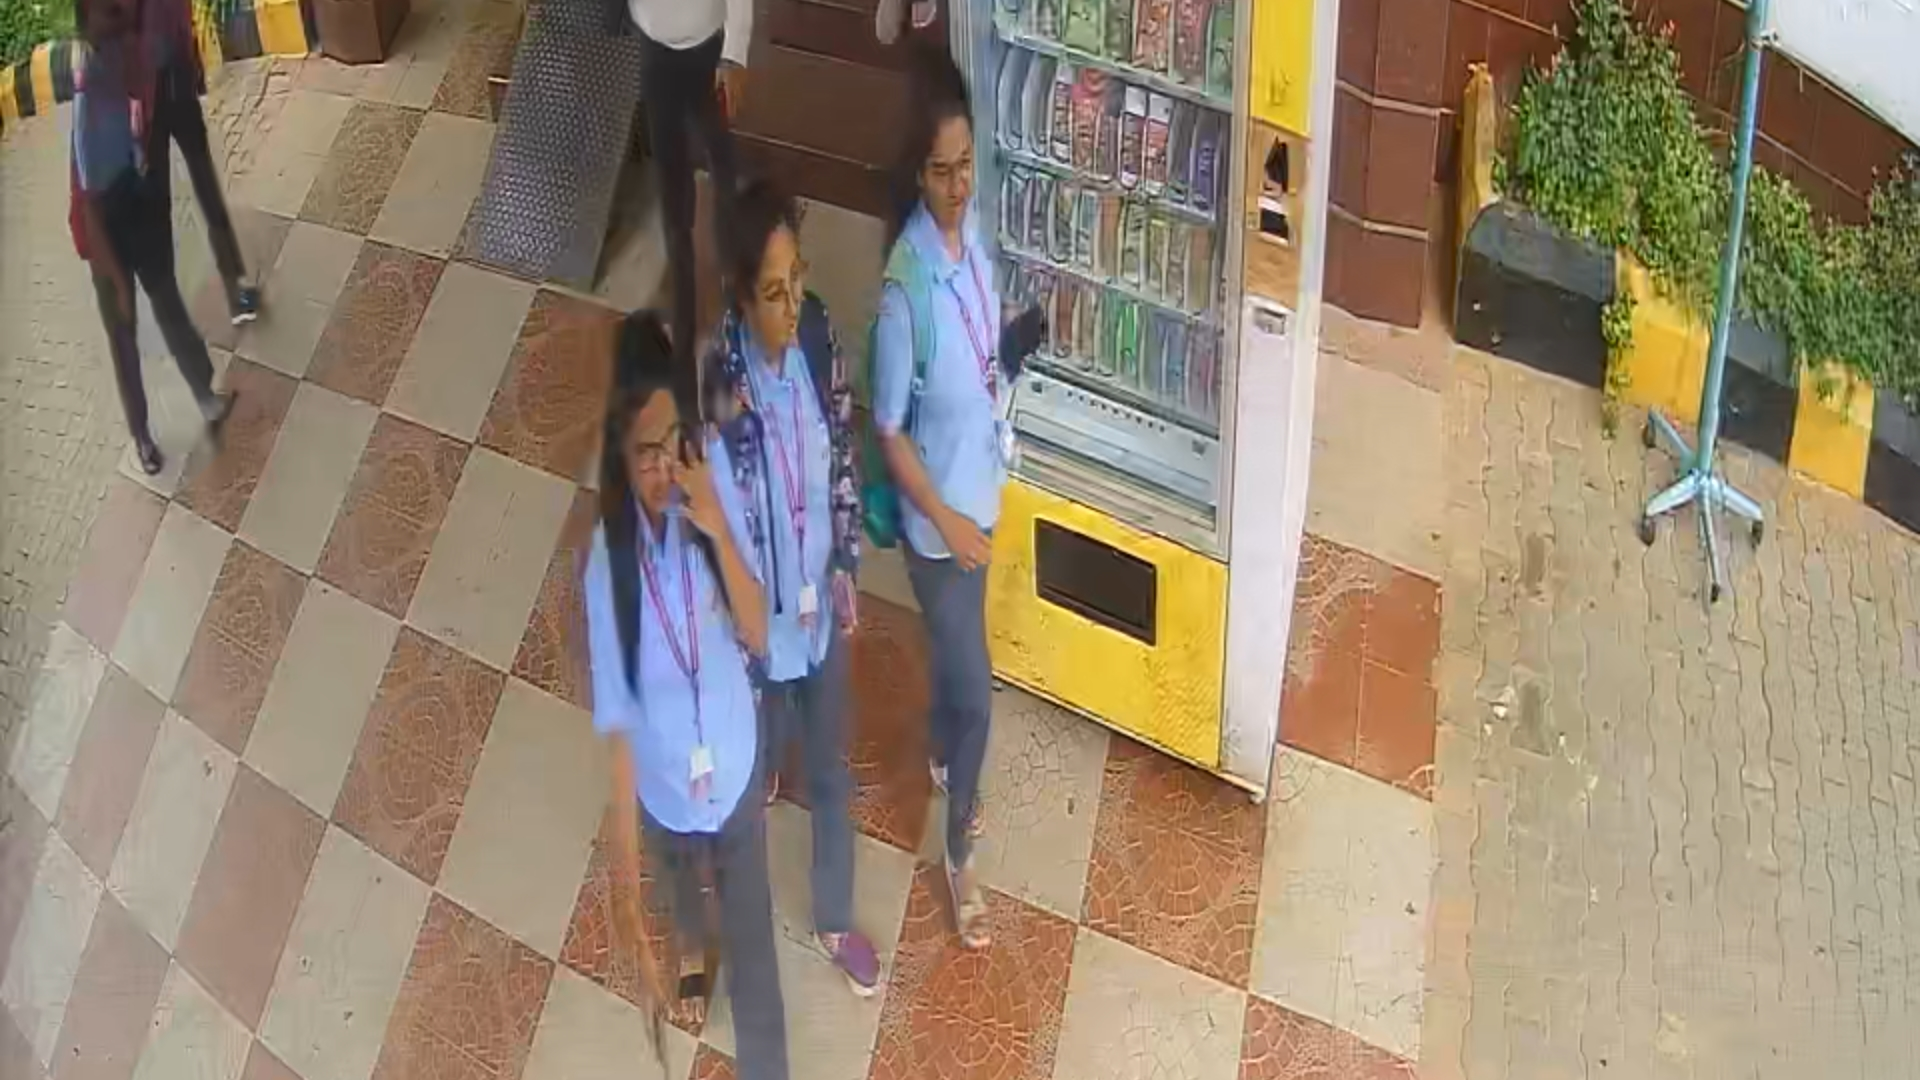not intruder: (849, 82, 1040, 982), (591, 327, 757, 1080), (709, 210, 855, 960)
